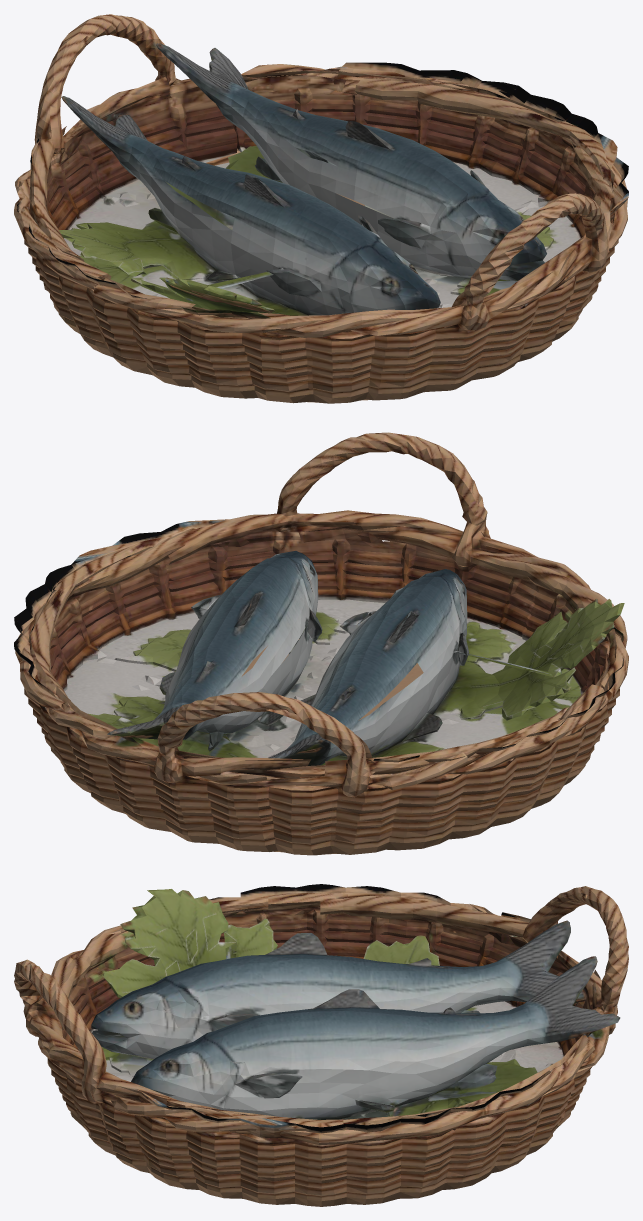
Rendered from Canasta peces.glb.
The picture shows the model from 3 angles, top to bottom: view 1: azimuth 30°, elevation 25°; view 2: azimuth 150°, elevation 25°; view 3: azimuth 270°, elevation 25°; orthographic projection. The views are drawn at different scales.
Visible parts, largest first — view 1: tripo_node_17863ac4-00a6-4084-8b80-632e331730eb; view 2: tripo_node_17863ac4-00a6-4084-8b80-632e331730eb; view 3: tripo_node_17863ac4-00a6-4084-8b80-632e331730eb.
Boxes of the visible parts, x1=… form: tripo_node_17863ac4-00a6-4084-8b80-632e331730eb: x1=14, y1=14, x2=628, y2=403; tripo_node_17863ac4-00a6-4084-8b80-632e331730eb: x1=14, y1=432, x2=628, y2=855; tripo_node_17863ac4-00a6-4084-8b80-632e331730eb: x1=14, y1=884, x2=628, y2=1206.
Bounding box in the file's own units: 0.9471 × 0.3073 × 0.998.
1 material, 1 textured.
